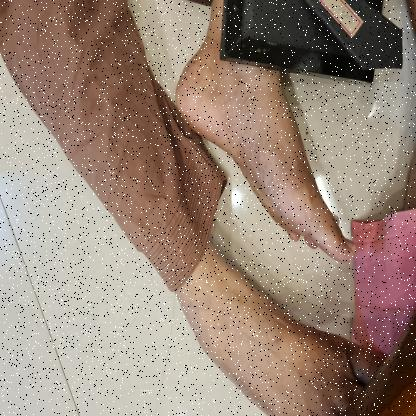leg: (171, 0, 358, 270), (170, 240, 391, 413)
